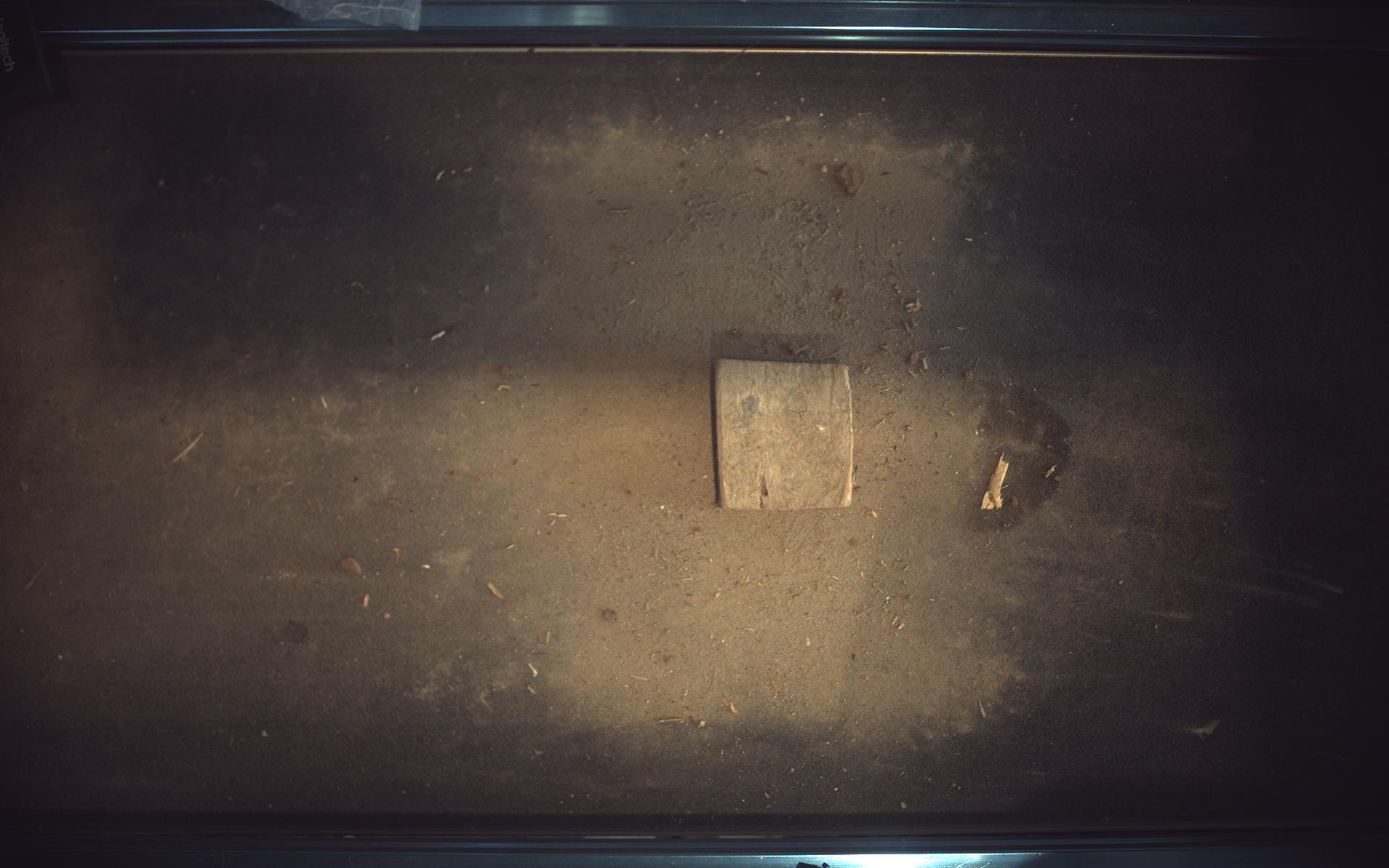wood: (716, 359, 854, 509)
